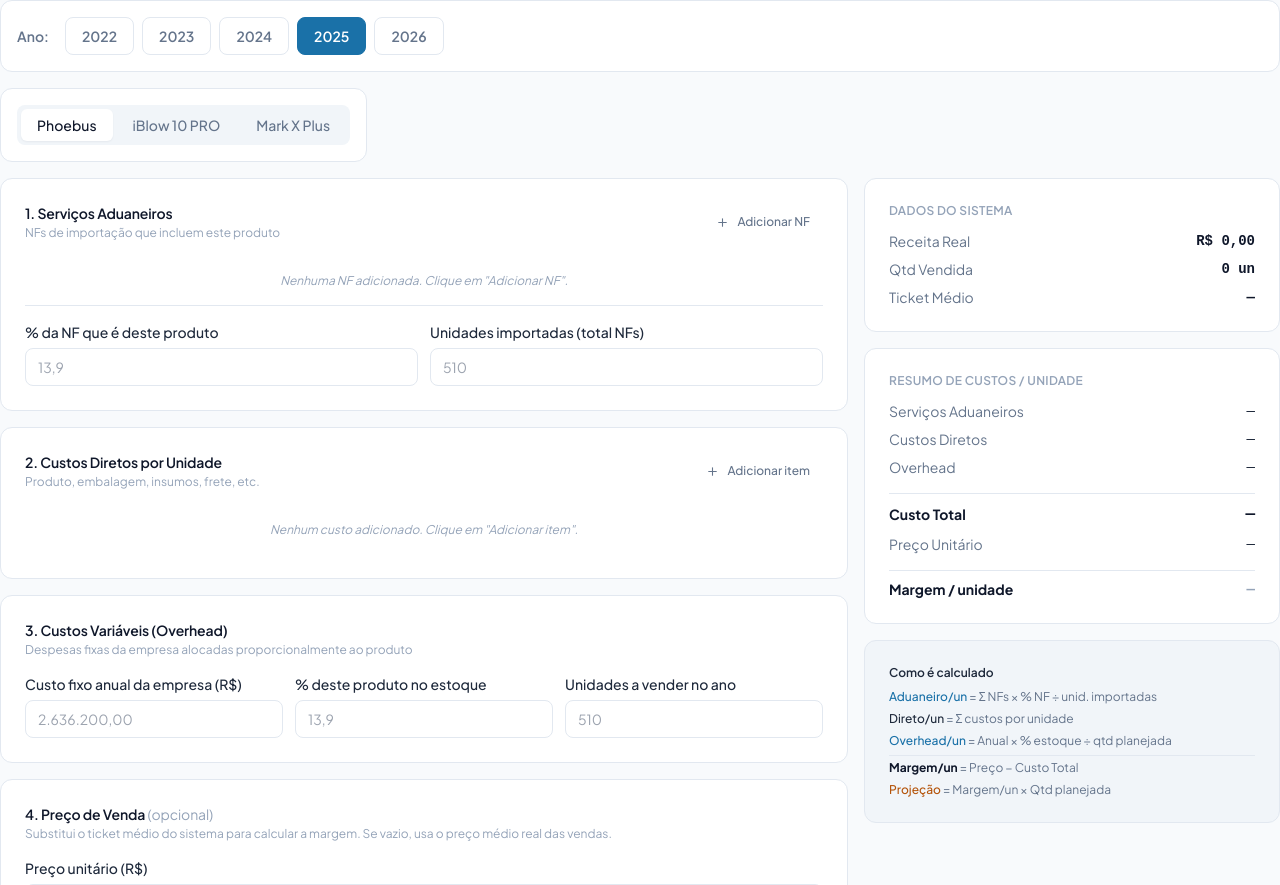
Test: Aba Centro de Custo — configuração gravada › editar um produto não contamina o outro
This screenshot has width=1280, height=885.
Check: the heading "1. Serviços Aduaneiros" is shown, box [25, 204, 172, 222]
Type "300" into the field labelled "Unidades importadas (total NFs)".
click(626, 367); type("300")  # box [430, 348, 823, 386]
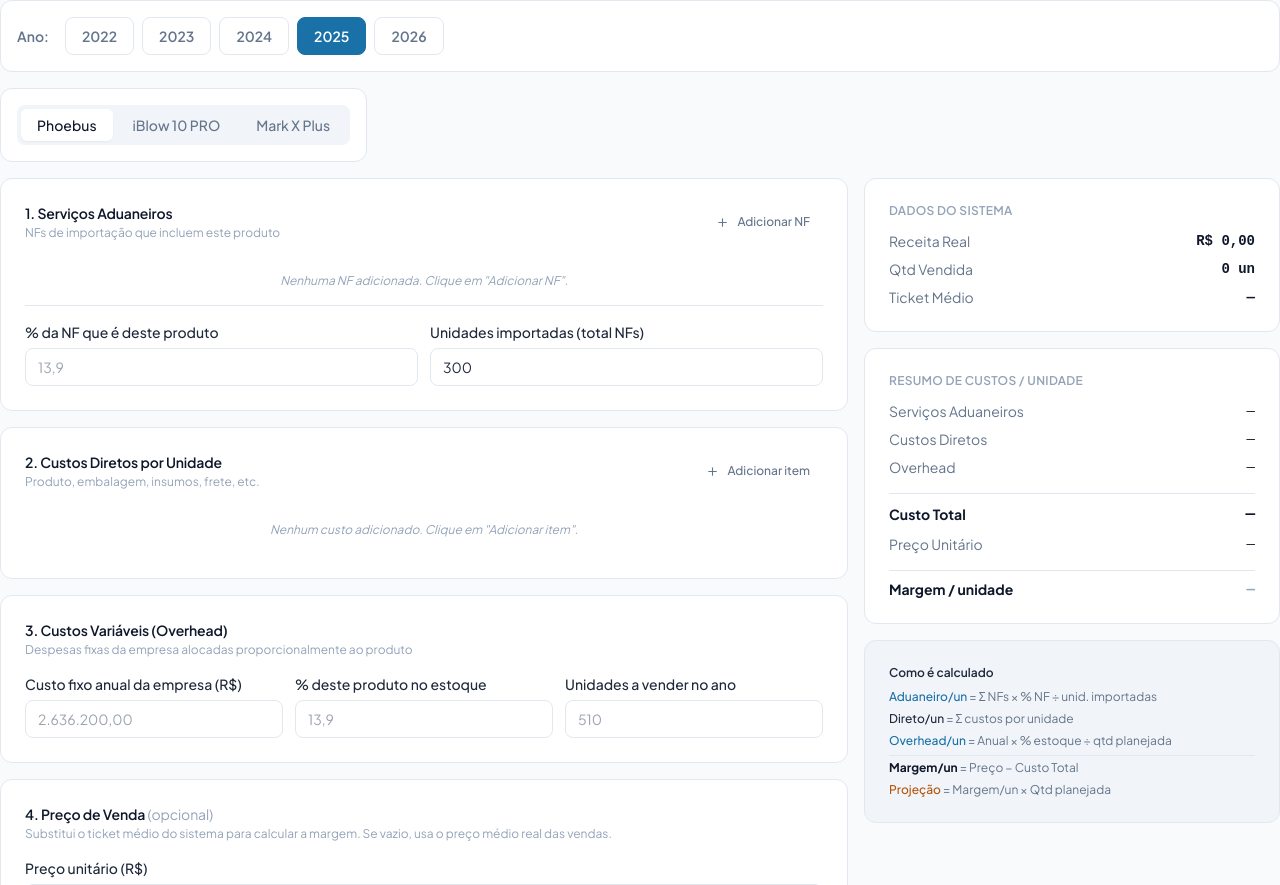
Click the tab "iBlow 10 PRO".
click(176, 125)  # box [116, 109, 236, 141]
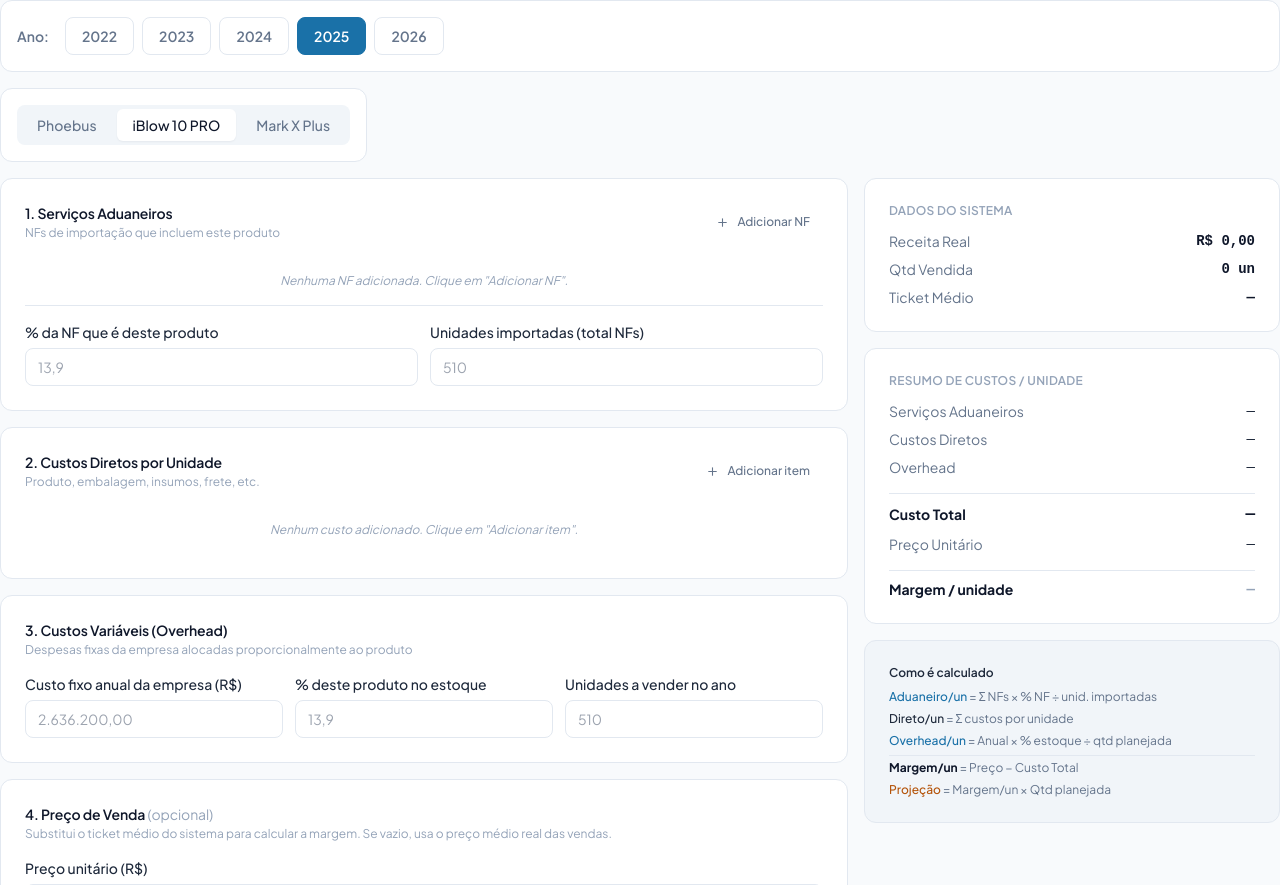
Check: the field labelled "Unidades importadas (total NFs)" is empty, box [430, 348, 823, 386]
Click the tab "Phoebus".
click(67, 125)  # box [21, 109, 112, 141]
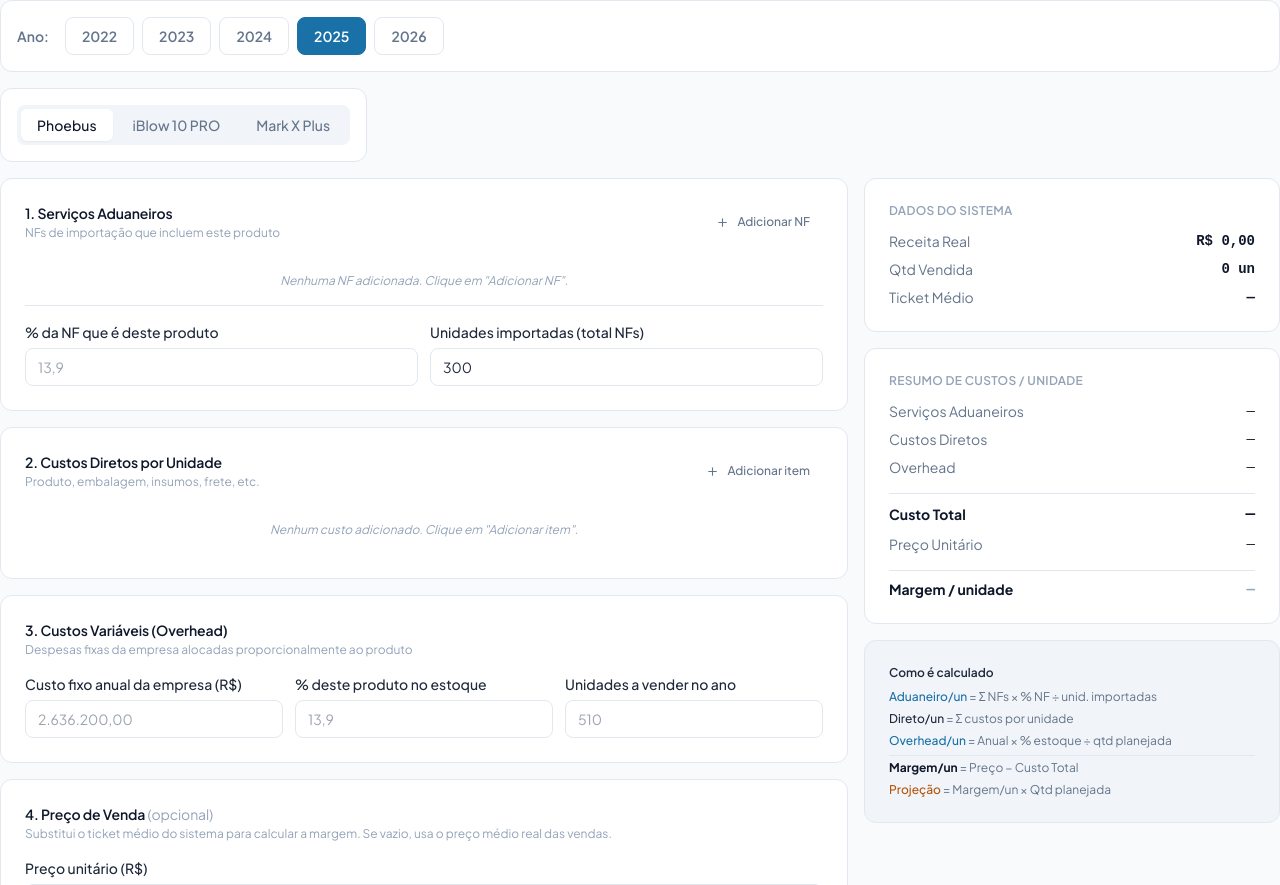
Check: the field labelled "Unidades importadas (total NFs)" holds "300", box [430, 348, 823, 386]
